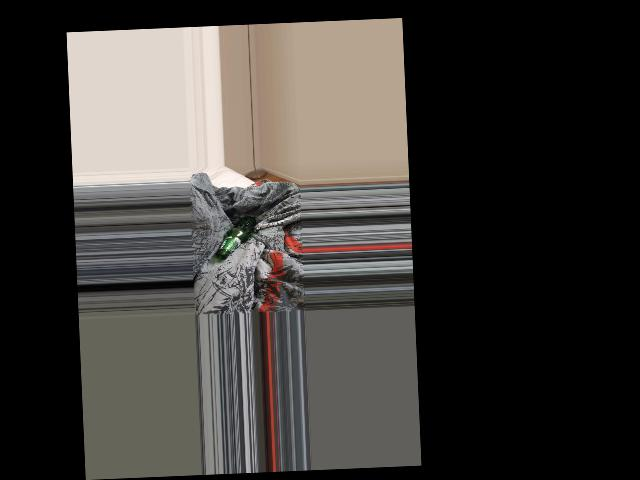beer: (215, 216, 257, 260)
